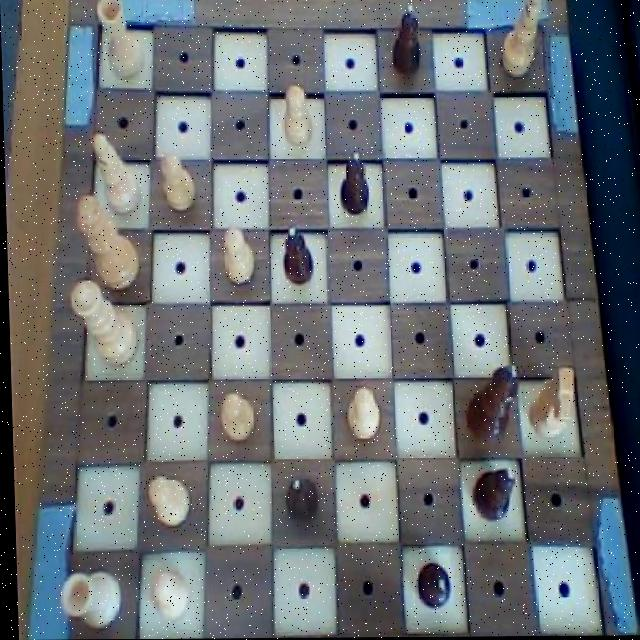bishop: (468, 465, 518, 524)
black-bishop: (461, 359, 520, 447)
black-knight: (389, 2, 427, 83), (334, 145, 373, 219), (276, 470, 320, 529), (279, 223, 315, 290), (409, 559, 449, 614)
black-rook: (88, 130, 141, 218), (497, 0, 548, 82)
white-bishop: (72, 190, 141, 292)
white-king: (522, 357, 579, 445)
white-knight: (154, 146, 199, 218), (274, 78, 315, 154), (142, 473, 189, 537), (216, 220, 258, 291), (141, 565, 189, 626), (214, 388, 258, 448), (342, 386, 382, 444)
white-pawn: (66, 275, 143, 372)
white-queen: (55, 563, 124, 635), (94, 0, 148, 84)
